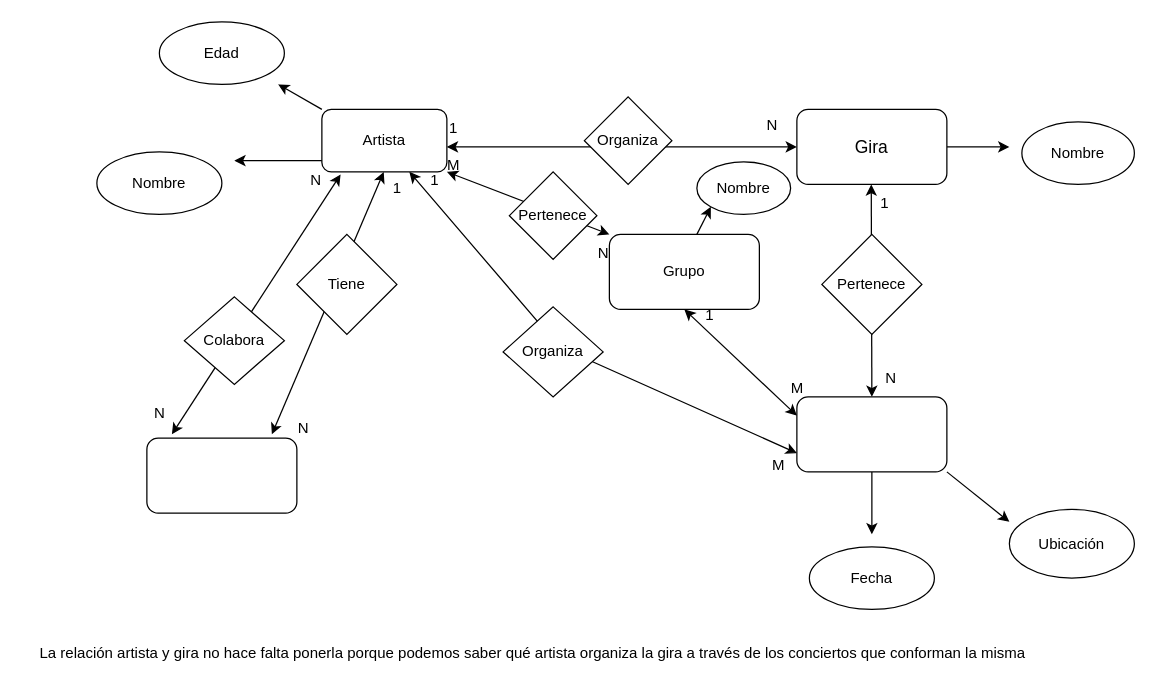
Image size: 1156x694. Some labels were removed from this diagram. The box of each missing label's shape, as (x1, y1, x2, y2) in pixels:
Canción: (146, 437, 297, 513)
Concierto: (796, 396, 947, 472)
